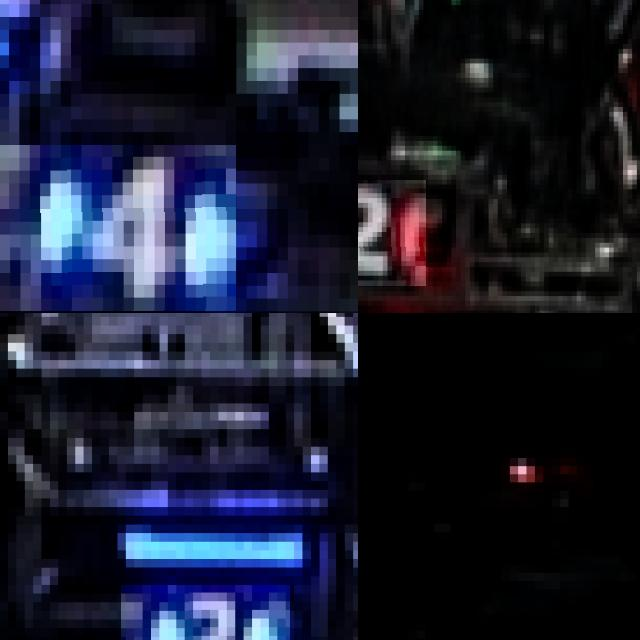B2: (121, 585, 289, 640)
B4: (0, 144, 236, 311)
R2: (358, 179, 426, 286), (583, 102, 640, 179)
